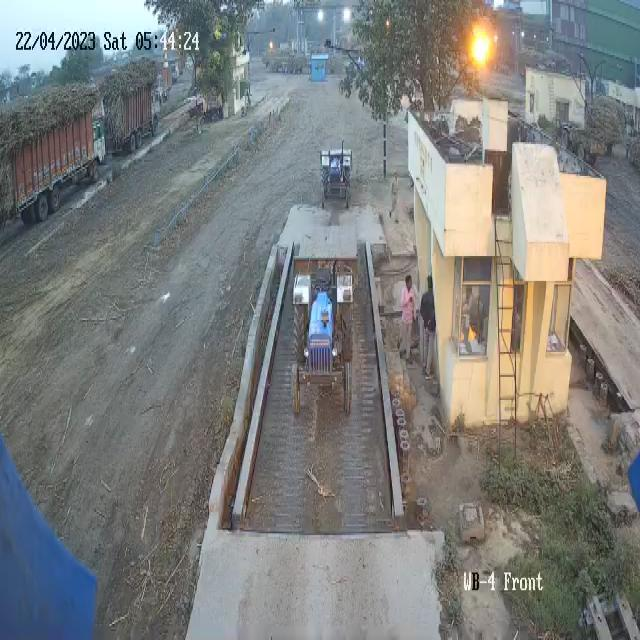Tratores - v5 YOLO V8L 2024-11-13: (287, 260, 358, 420), (319, 134, 354, 212)
